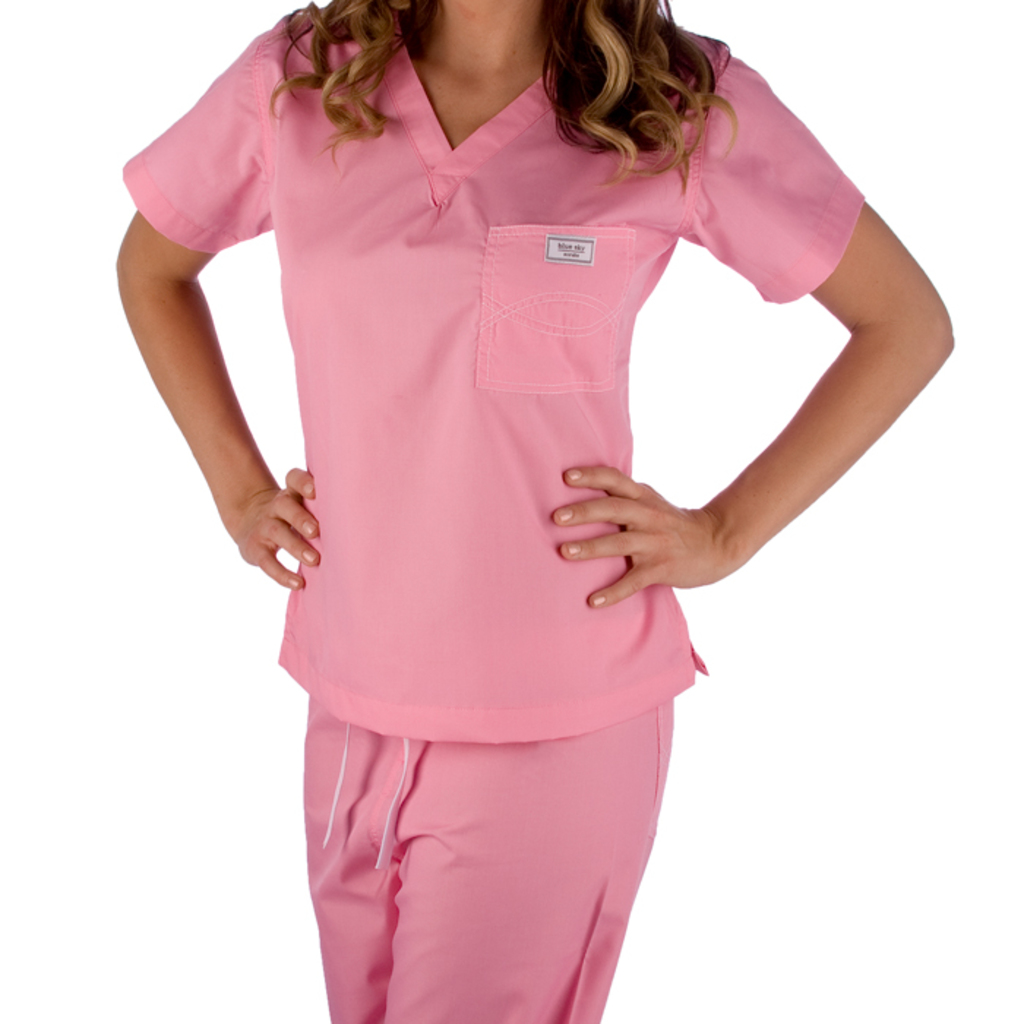Person: (115, 0, 955, 1022)
